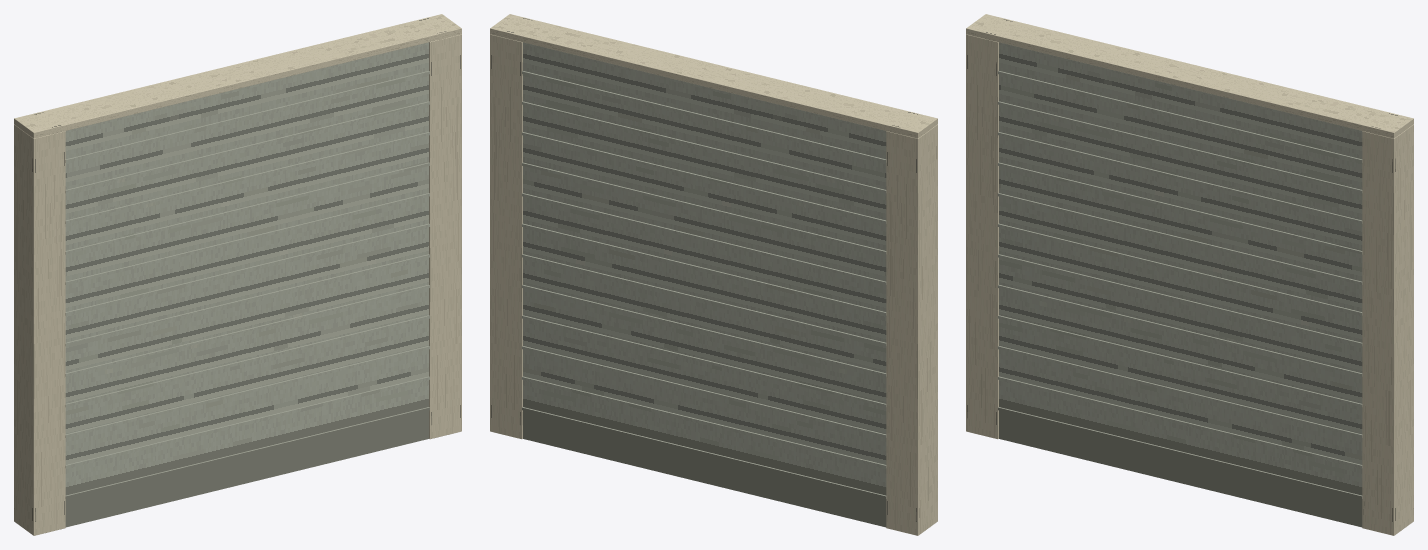
The model's file is house_wall_solid.glb.
3 views of the same model, side by side, from view 1: azimuth 30°, elevation 25°; view 2: azimuth 150°, elevation 25°; view 3: azimuth 330°, elevation 25° (orthographic).
Parts seen in each view (by area): view 1: house_wall_solid; view 2: house_wall_solid; view 3: house_wall_solid.
Part boxes in pixels (x1,y1,x2,y2): house_wall_solid: (14, 14, 461, 535); house_wall_solid: (490, 14, 937, 535); house_wall_solid: (966, 14, 1413, 535).
Bounding box in the file's own units: 3 × 2.7 × 0.24.
Materials: 2 (2 with a texture image).
